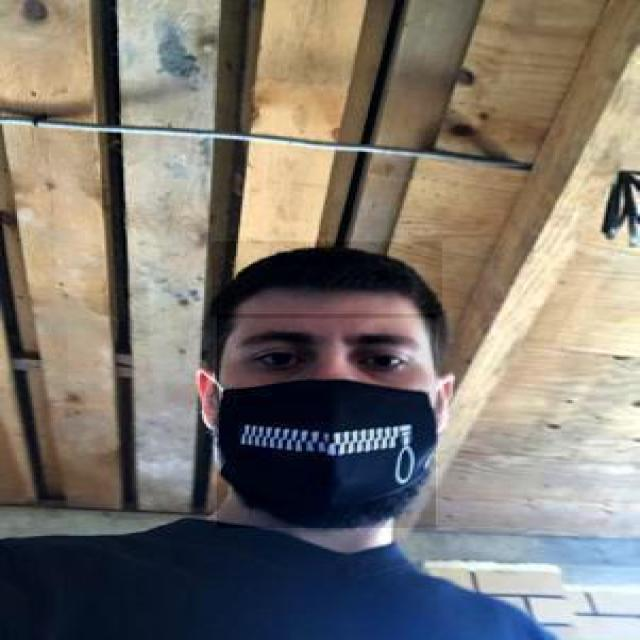face_mask: (217, 314, 438, 530)
head_nohelmet: (210, 242, 444, 318)
